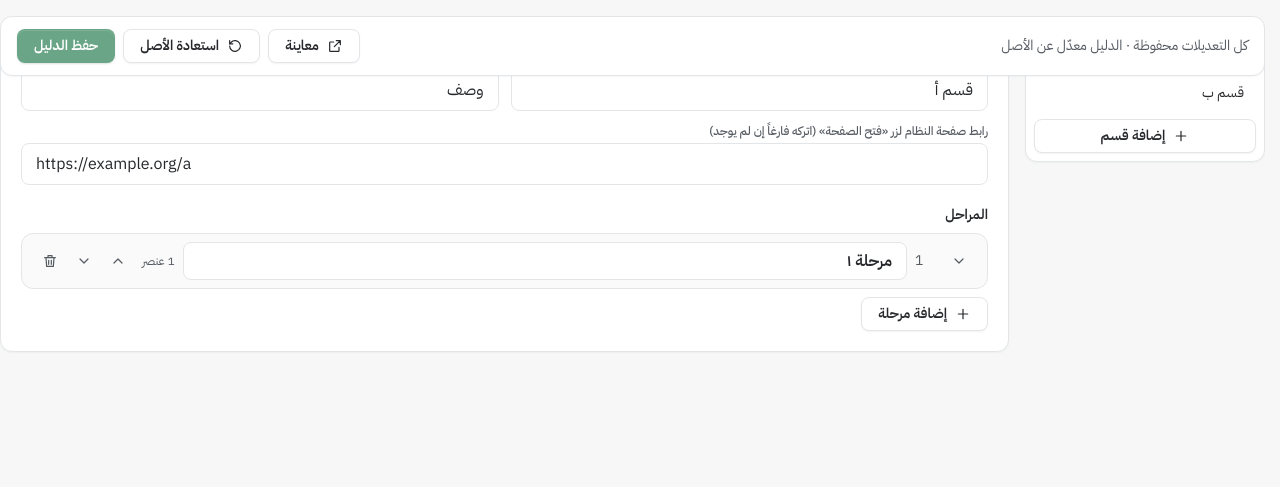
Test: GuideEditor (developer dashboard) › won’t save a stage without a title
The image size is (1280, 487).
Expected: the button "قسم أ" is shown, left=1138, top=37, right=1256, bottom=73
Click the button "إضافة مرحلة" at (925, 314), box left=861, top=297, right=988, bottom=331
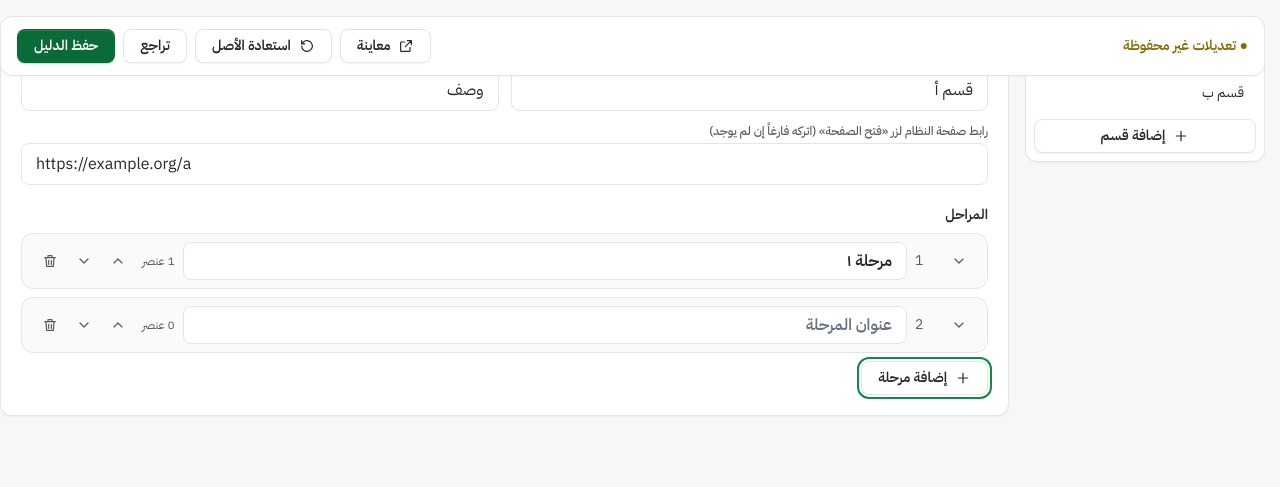
Click the button "حفظ الدليل" at (66, 46), box left=17, top=29, right=115, bottom=63
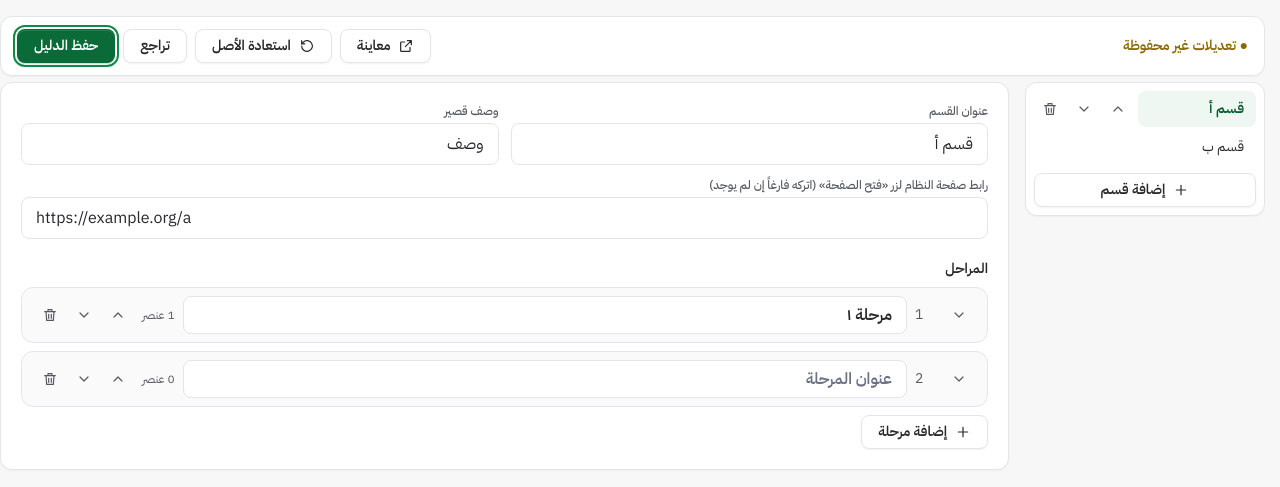
Result: the text "لكل مرحلة في «قسم أ» عنوان." is shown at left=0, top=28, right=1265, bottom=66
